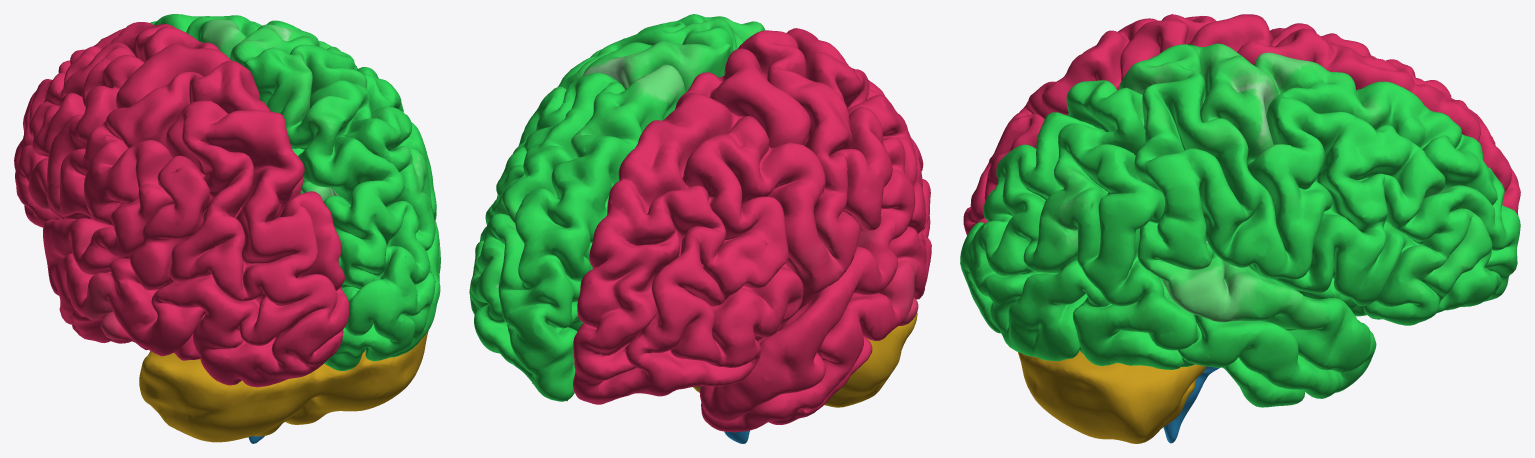
Rendered from cerebro_mri.glb.
The picture shows the model from 3 angles, left to right: view 1: azimuth 30°, elevation 25°; view 2: azimuth 150°, elevation 25°; view 3: azimuth 270°, elevation 25°; orthographic projection. The views are drawn at different scales.
Parts seen in each view (by area): view 1: Object_2; view 2: Object_2; view 3: Object_2.
Part boxes in pixels (left/top/right/bottom): Object_2: left=14, top=14, right=440, bottom=443; Object_2: left=469, top=14, right=931, bottom=443; Object_2: left=960, top=14, right=1520, bottom=443.
Size of the model in its own units: 133 by 146 by 181.
